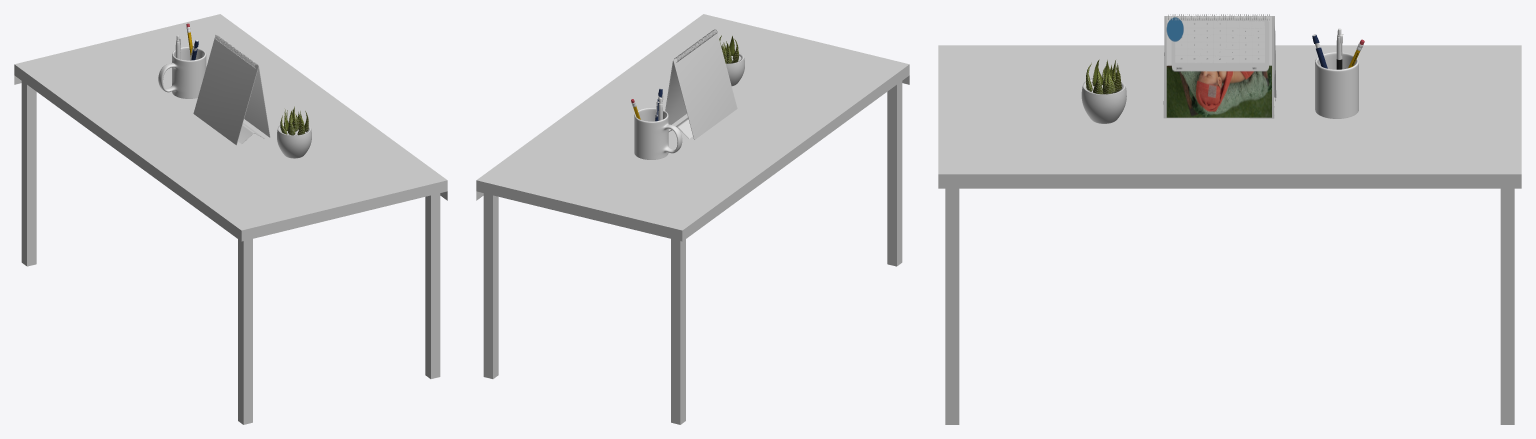
Rendered from FinalTC.glb.
3 views of the same model, side by side, from view 1: azimuth 30°, elevation 25°; view 2: azimuth 150°, elevation 25°; view 3: azimuth 270°, elevation 25° (orthographic). The views are drawn at different scales.
Visible parts, largest first — view 1: Table.003, main.001, Object_4.003, Cylinder.006_Flowerpot5_0.003, Plane.081_Haworthia_leaf_0.003; view 2: Table.003, main.001, Object_4.003; view 3: Table.003, Plane.001, Object_4.003, Cylinder.006_Flowerpot5_0.003, main.001, Plane.081_Haworthia_leaf_0.003.
Boxes of the visible parts, x1,y1,x2,y2 form: Table.003: [14, 14, 447, 424]; main.001: [193, 35, 270, 145]; Object_4.003: [158, 47, 206, 98]; Cylinder.006_Flowerpot5_0.003: [277, 122, 311, 158]; Plane.081_Haworthia_leaf_0.003: [280, 106, 308, 135]; Table.003: [476, 14, 909, 424]; main.001: [665, 29, 737, 139]; Object_4.003: [634, 108, 682, 159]; Table.003: [938, 45, 1521, 424]; Plane.001: [1166, 16, 1271, 117]; Object_4.003: [1315, 52, 1358, 118]; Cylinder.006_Flowerpot5_0.003: [1081, 77, 1126, 123]; main.001: [1163, 16, 1276, 118]; Plane.081_Haworthia_leaf_0.003: [1086, 59, 1121, 94].
Bounding box in the file's own units: 1.1 × 1.39 × 2.1.
13 materials, 3 textured.
